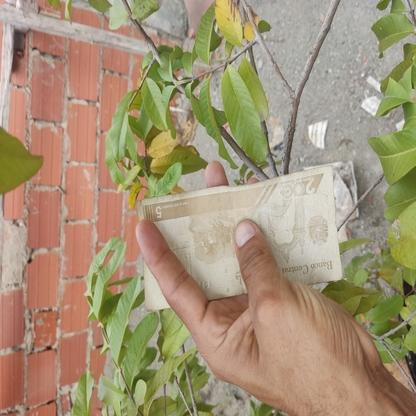five-back-vef: (135, 166, 342, 310)
